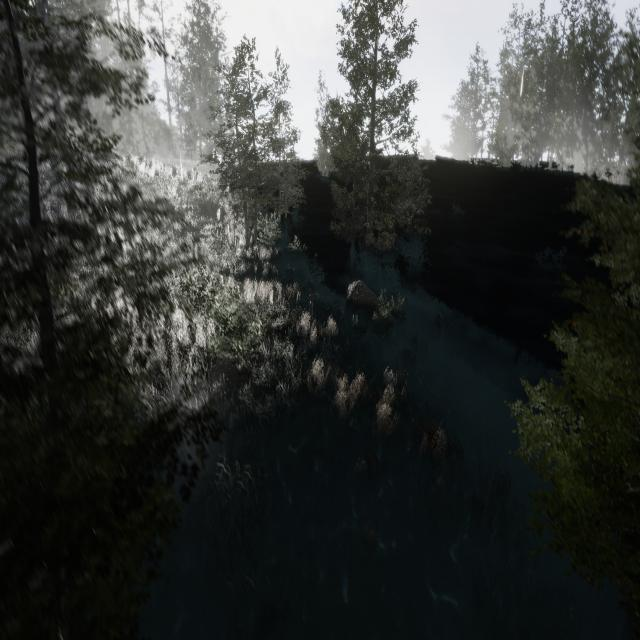Human: (304, 278, 316, 316)
